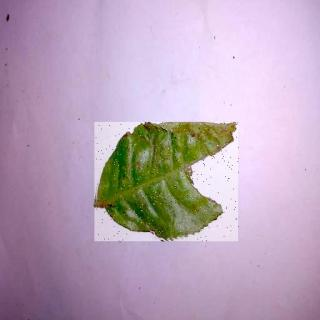Bird Eye Spot: (96, 123, 240, 242)
